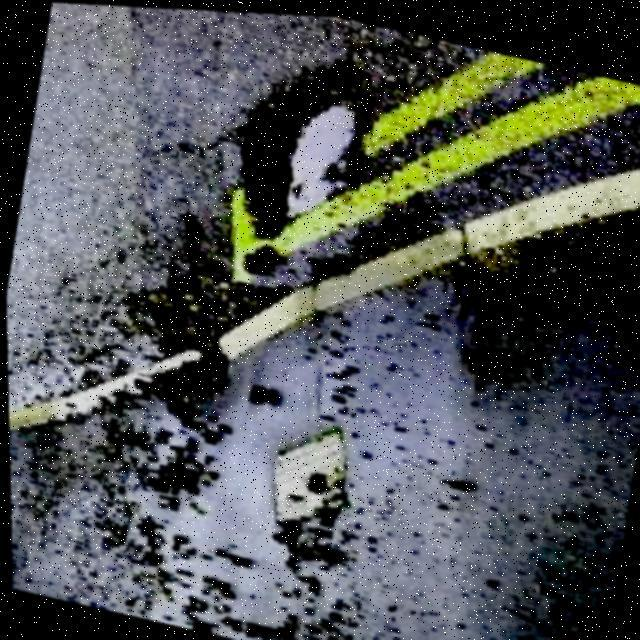pothole: (212, 39, 391, 260)
